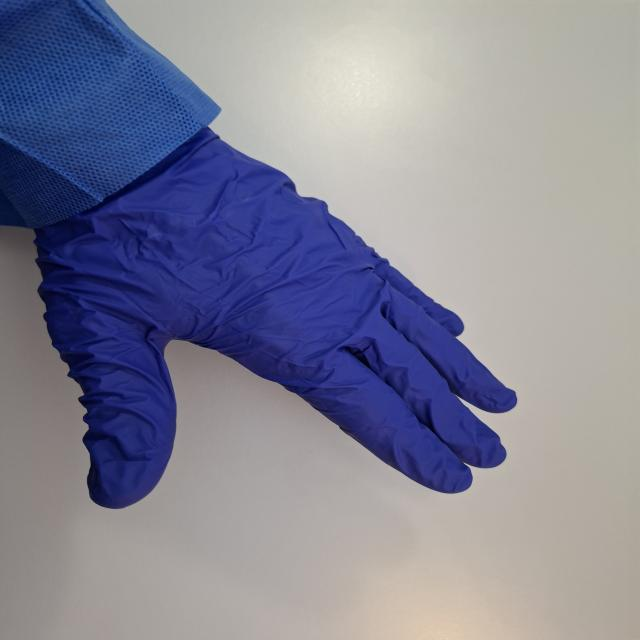glove_on: (20, 122, 525, 511)
